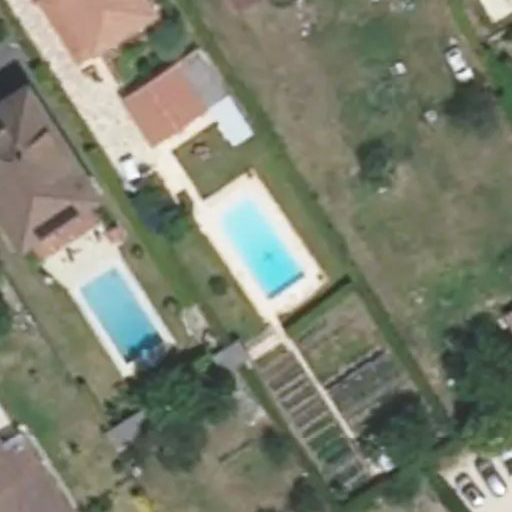pool: (207, 210, 304, 272)
